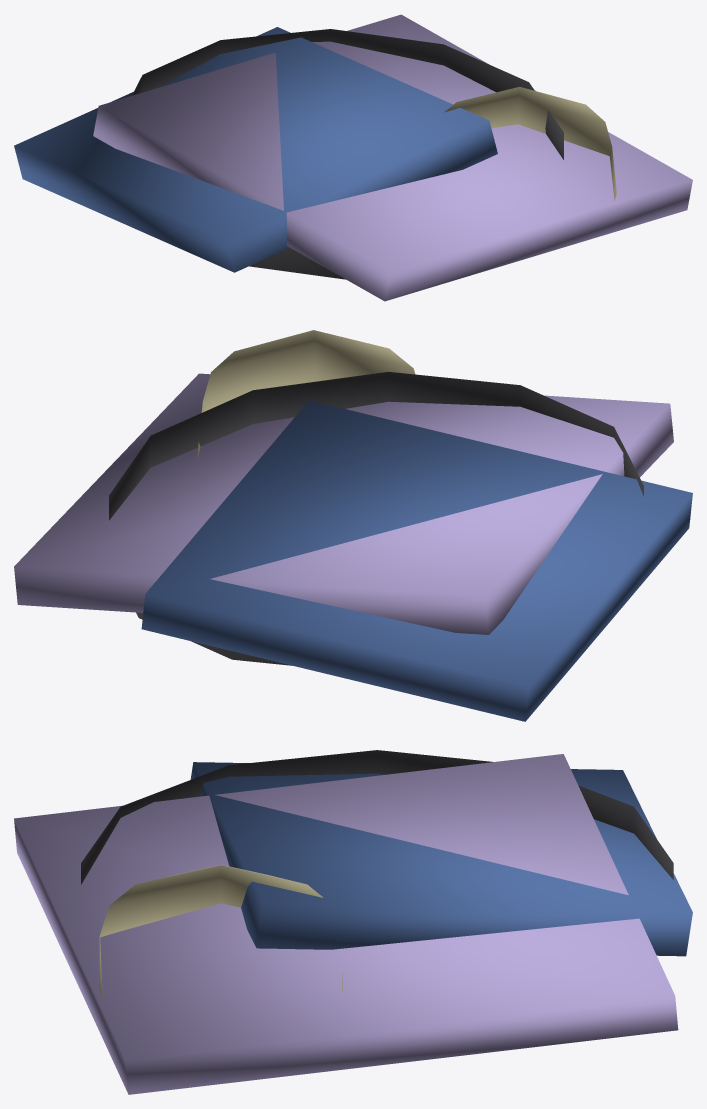
Rendered from inflatable-mascot-wreck.glb.
The picture shows the model from 3 angles, top to bottom: view 1: azimuth 30°, elevation 25°; view 2: azimuth 150°, elevation 25°; view 3: azimuth 270°, elevation 25°; orthographic projection. The views are drawn at different scales.
Parts seen in each view (by area): view 1: world; view 2: world; view 3: world.
Part boxes in pixels (x1,y1,x2,y2): world: [14, 14, 692, 301]; world: [14, 330, 692, 721]; world: [14, 750, 692, 1094].
Bounding box in the file's own units: 2.2 × 0.6 × 2.2.
